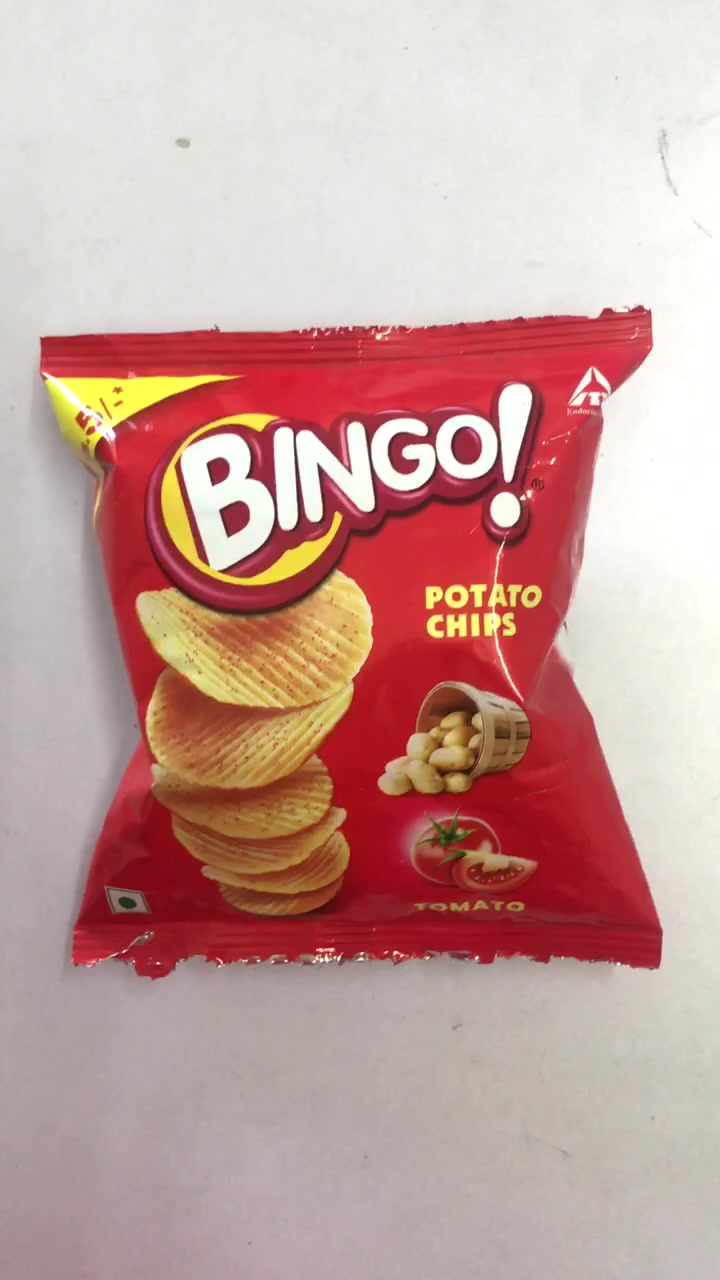Bingo: (39, 335, 659, 964)
